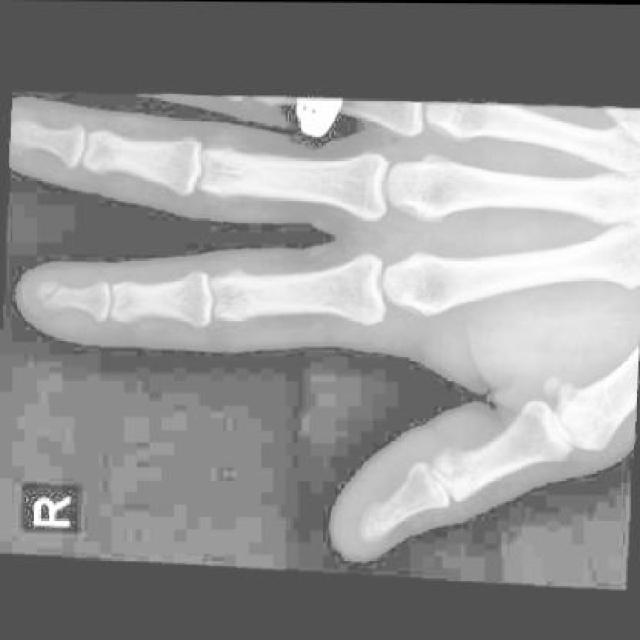bone: (29, 280, 66, 316)
